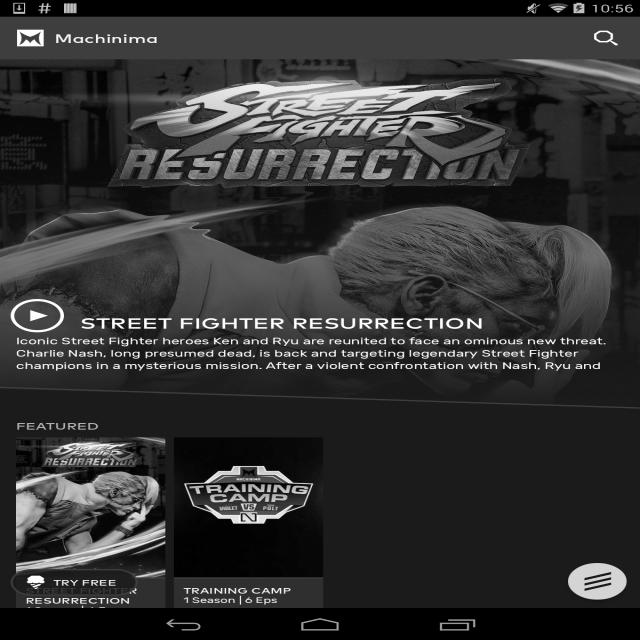ImageButton: (555, 551, 640, 612), (562, 556, 636, 610)
ImageView: (0, 59, 640, 640), (16, 438, 165, 578), (174, 438, 323, 578), (0, 299, 80, 332), (11, 569, 53, 596), (17, 26, 54, 50)
TextView: (0, 336, 640, 372), (80, 312, 640, 332), (16, 419, 624, 432), (26, 584, 156, 606), (53, 571, 138, 593), (54, 30, 158, 46), (580, 22, 632, 54), (184, 584, 314, 596), (26, 606, 156, 615), (184, 596, 314, 605)
